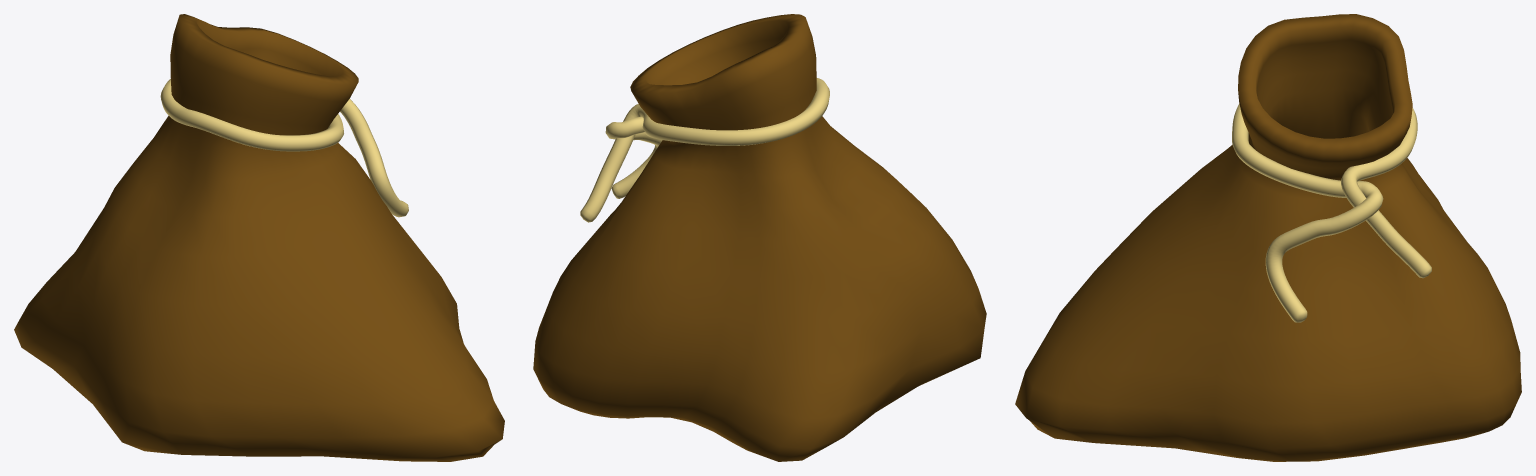
Rendered from Sack.fbx.
3 views of the same model, side by side, from view 1: azimuth 30°, elevation 25°; view 2: azimuth 150°, elevation 25°; view 3: azimuth 270°, elevation 25° (orthographic).
Visible parts, largest first — view 1: Sack, String; view 2: Sack, String; view 3: Sack, String.
Part boxes in pixels (left/top/right/bottom): Sack: left=14, top=14, right=504, bottom=461; String: left=160, top=79, right=408, bottom=217; Sack: left=533, top=14, right=986, bottom=461; String: left=580, top=78, right=829, bottom=222; Sack: left=1015, top=14, right=1521, bottom=461; String: left=1232, top=103, right=1431, bottom=322.
Size of the model in its own units: 450 by 424 by 544.
